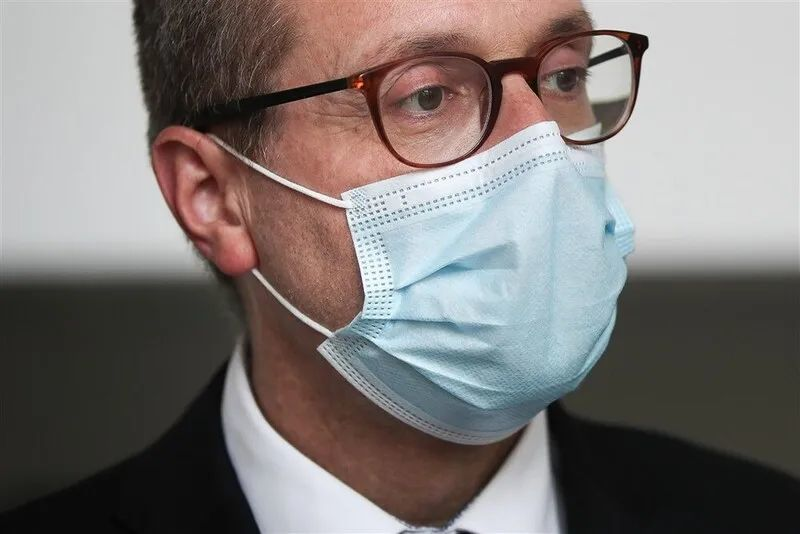mask: (152, 5, 642, 443)
